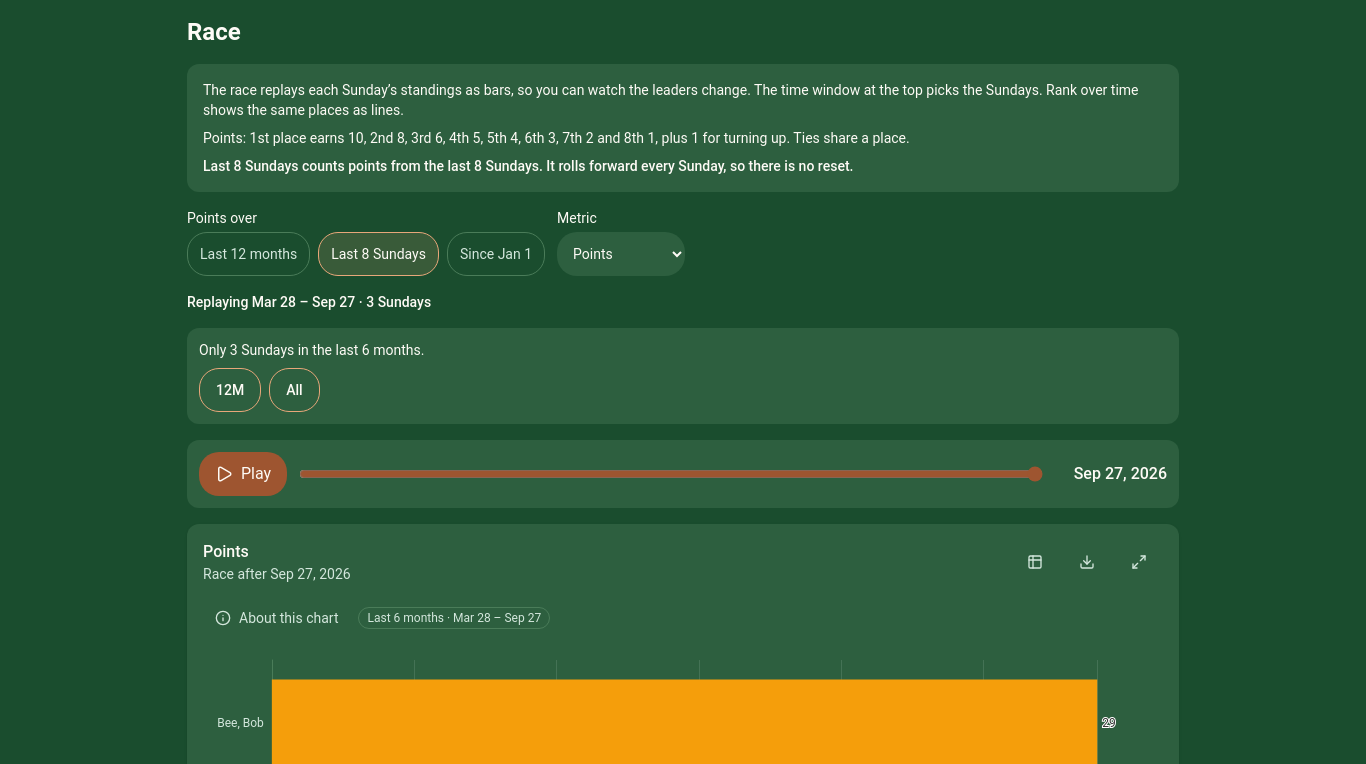
Test case: RacePage › explains both charts, tagged with the time window, with the points-rule line
This screenshot has width=1366, height=764.
Click the button "About this chart": (277, 618) [203,596,350,640]
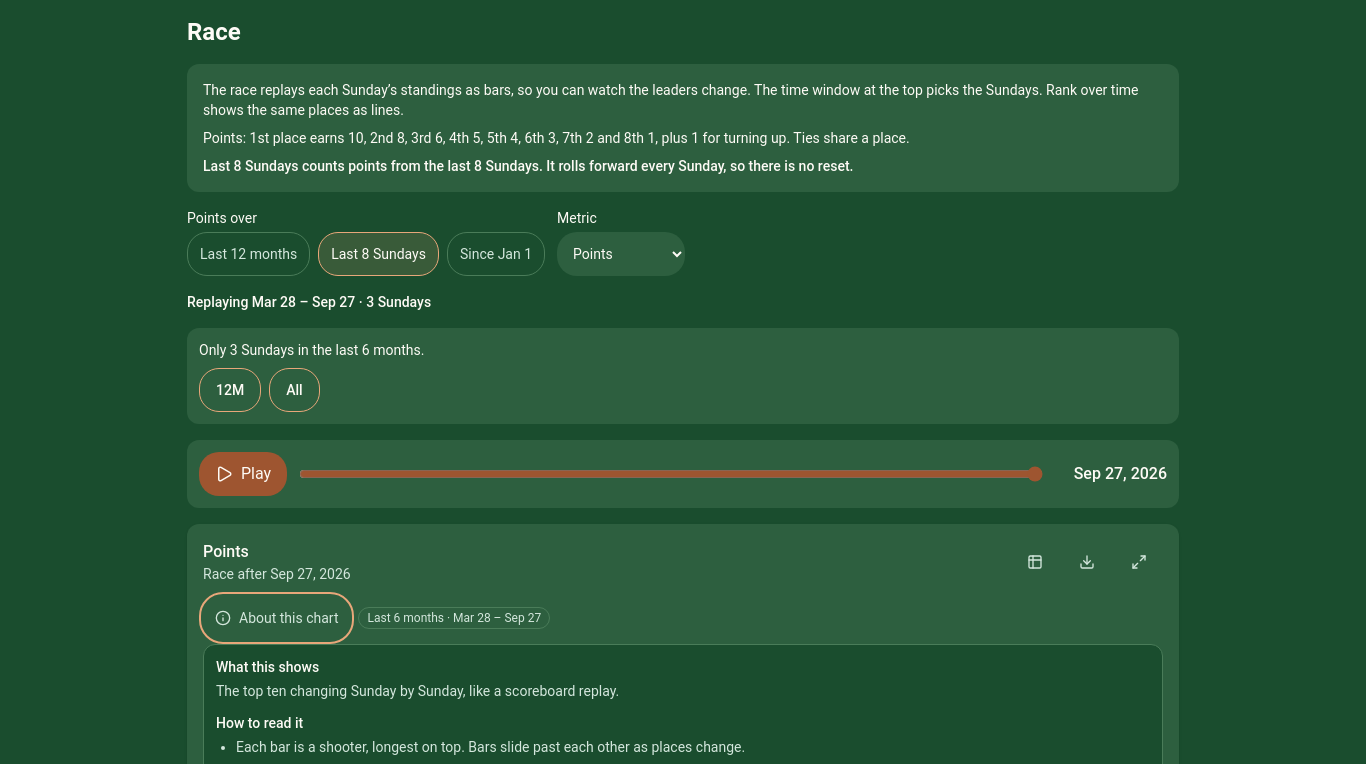
Expected: the button "About this chart" is expanded
Expected: the heading "What this shows" is shown, [216,659,319,675]
Expected: the heading "How to read it" is shown, [216,715,303,731]
Click the button "About this chart": (277, 618) [203,596,350,640]
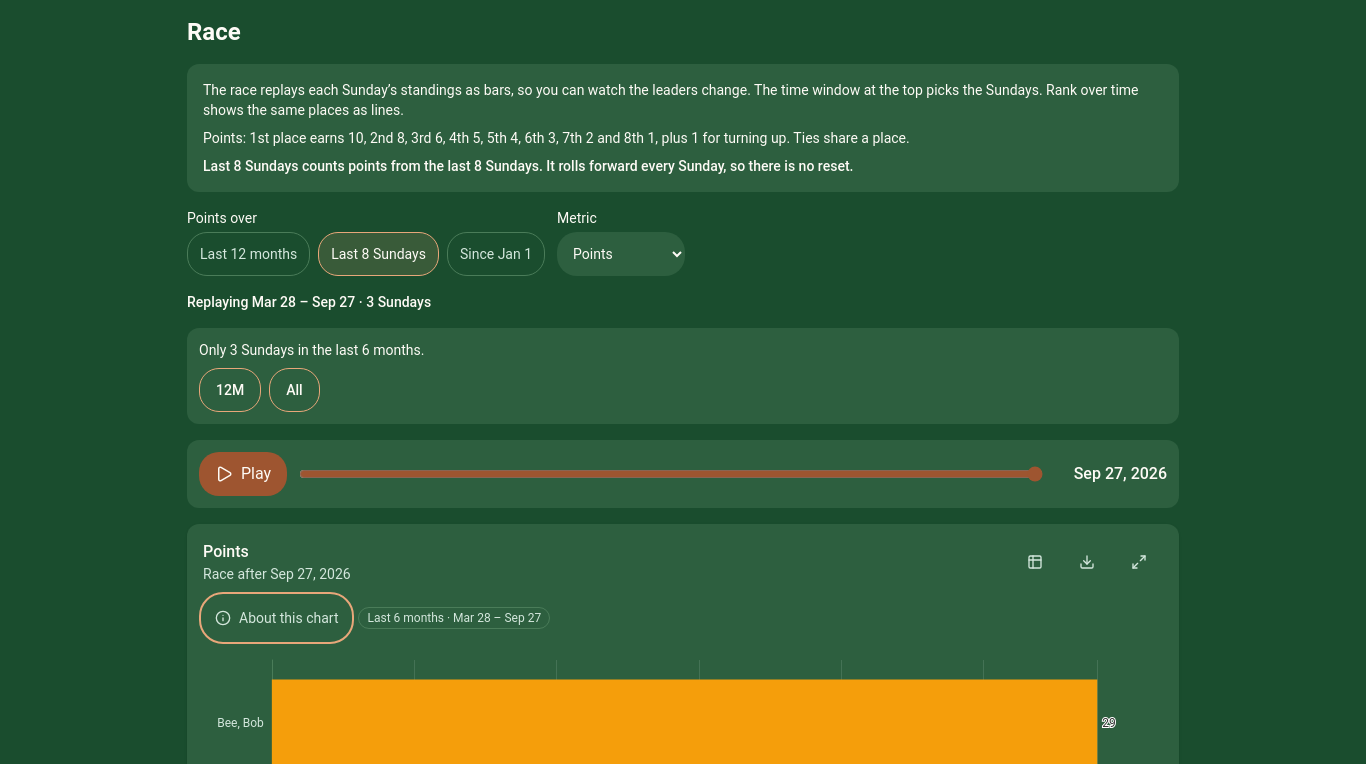
Expected: the heading "What this shows" is gone
Click the button "About this chart": (277, 618) [203,596,350,640]
(page scrolled)
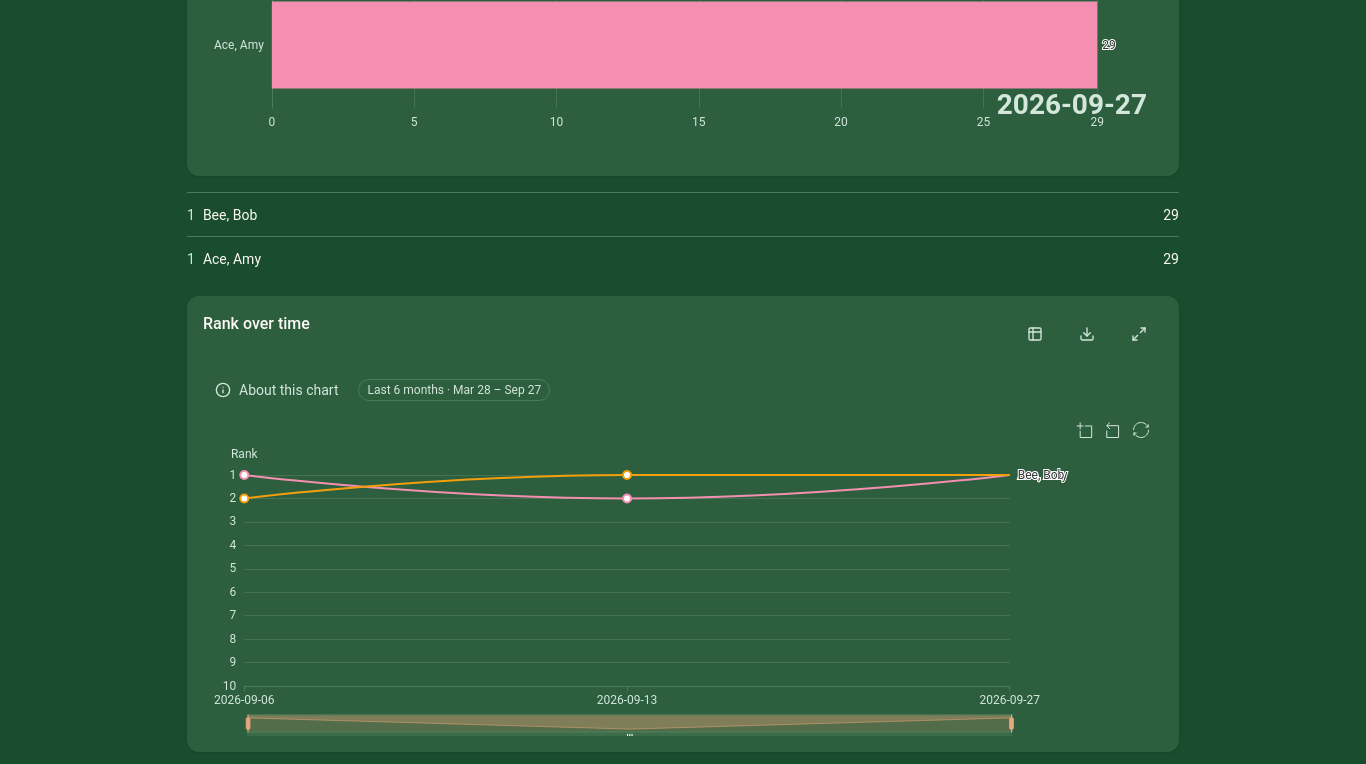
Click the button "About this chart": (277, 390) [203,368,350,412]
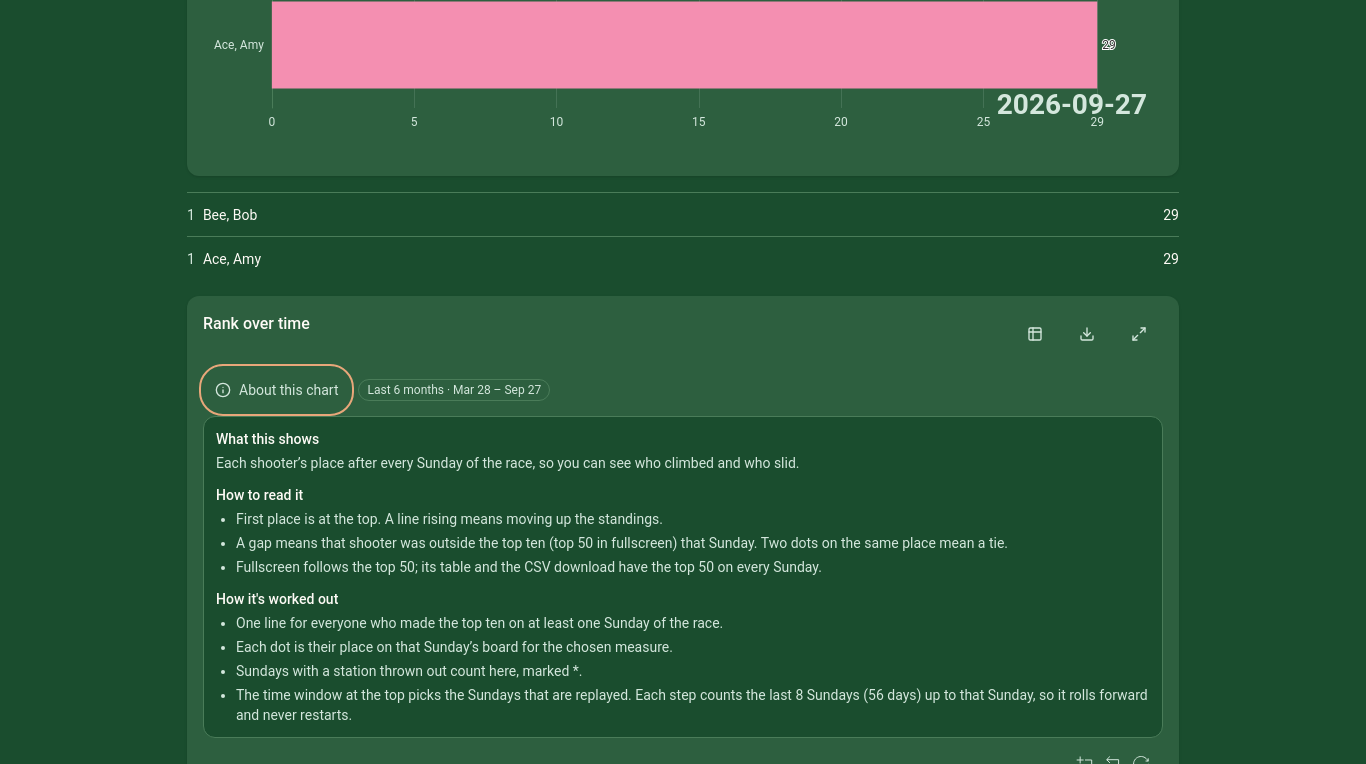
Expected: the button "About this chart" is expanded
Expected: the heading "What this shows" is shown, [216,431,319,447]
Expected: the heading "How it's worked out" is shown, [216,591,338,607]
Click the button "About this chart": (277, 390) [203,368,350,412]
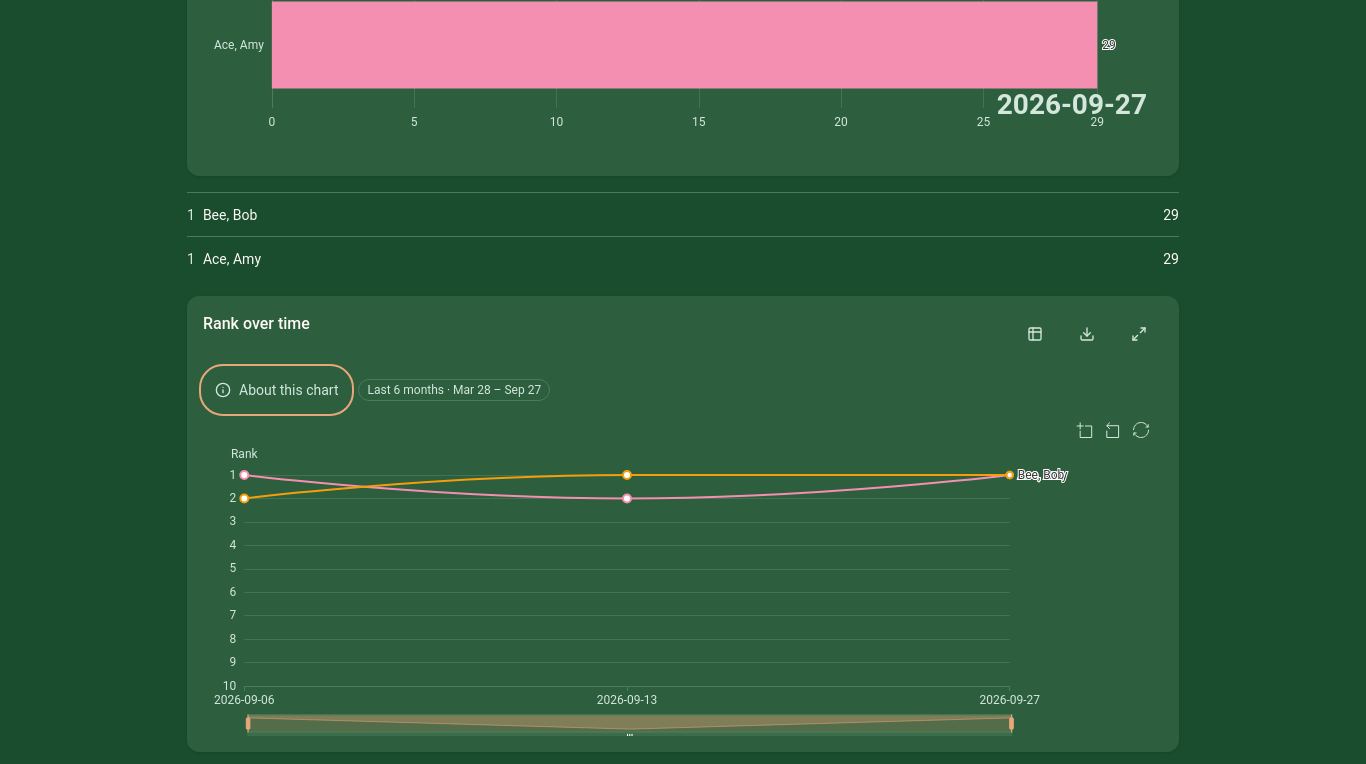
Expected: the heading "What this shows" is not shown
Click the button "About this chart": (277, 390) [203,368,350,412]
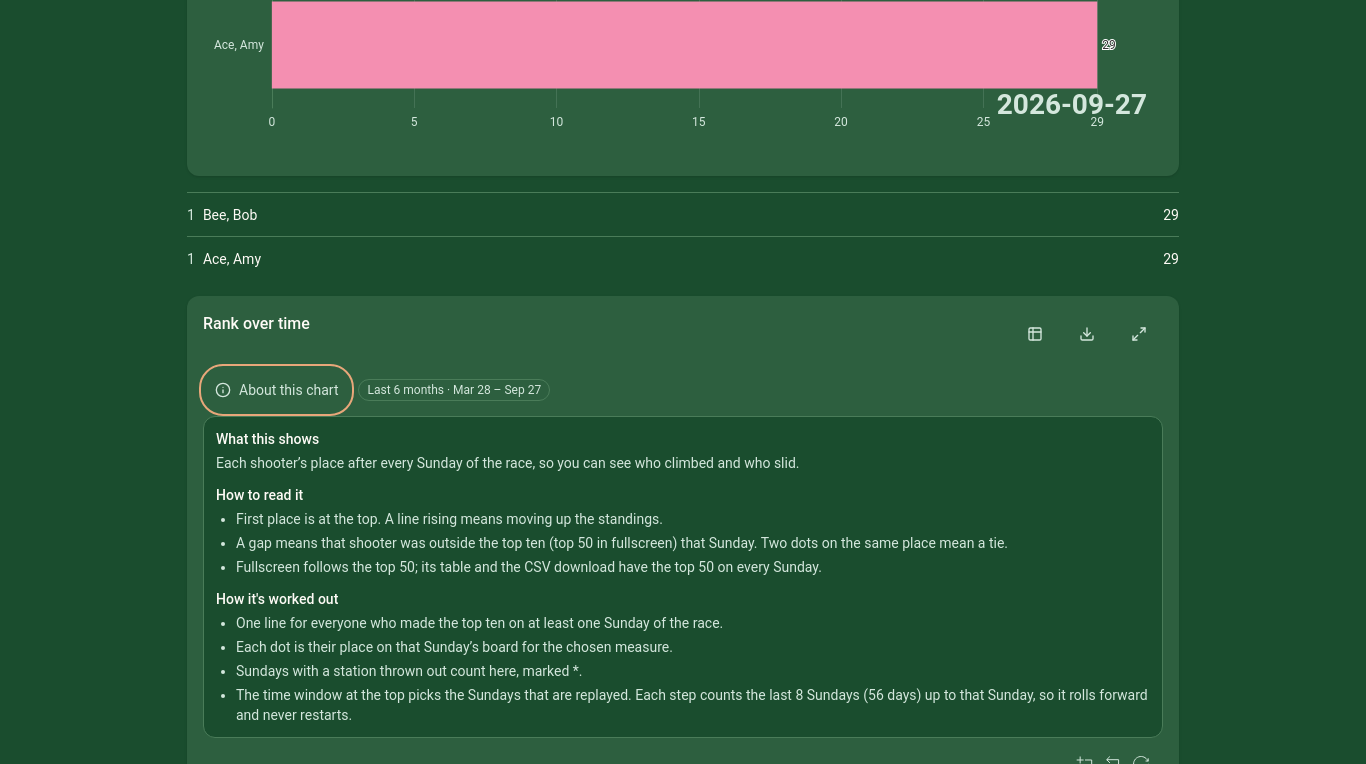
Expected: the button "Last 6 months · Mar 28 – Sep 27" is shown, [358,379,550,401]
Expected: the list item "last 8 Sundays (56 days)" is shown, [236,687,1148,723]
